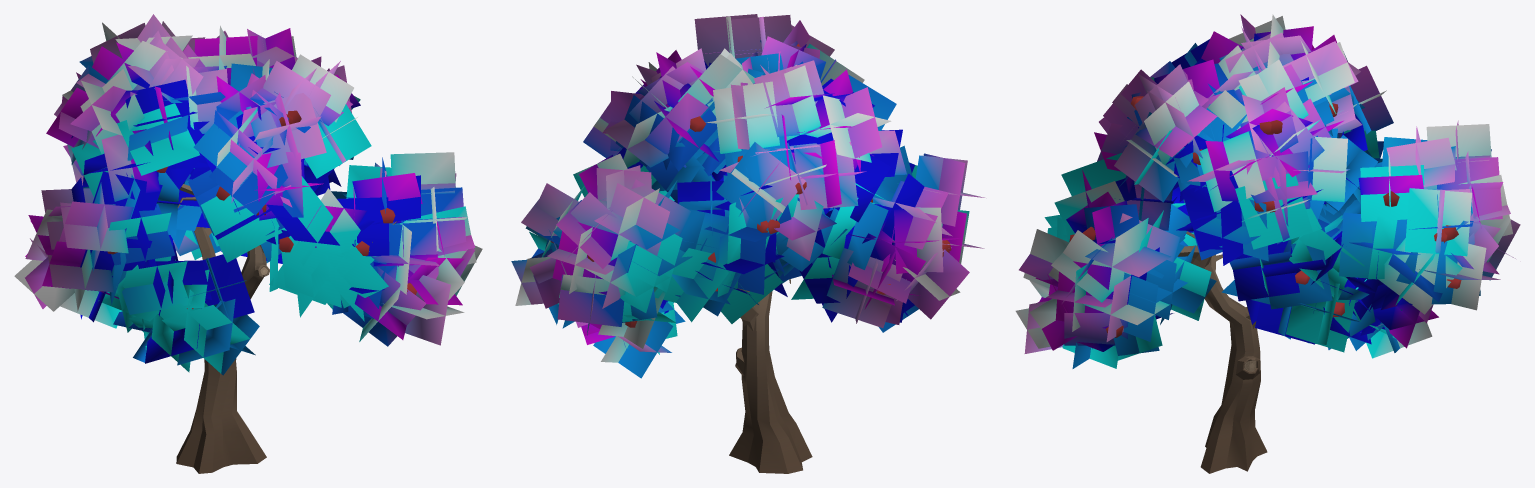
The model's file is PT_Fruit_Tree_01_apples.fbx.
The picture shows the model from 3 angles, left to right: view 1: azimuth 30°, elevation 25°; view 2: azimuth 150°, elevation 25°; view 3: azimuth 270°, elevation 25°; orthographic projection.
Visible parts, largest first — view 1: PT_Fruit_Tree_01_apples_LOD0; view 2: PT_Fruit_Tree_01_apples_LOD0; view 3: PT_Fruit_Tree_01_apples_LOD0.
Part boxes in pixels (left/top/right/bottom): PT_Fruit_Tree_01_apples_LOD0: left=14, top=14, right=482, bottom=473; PT_Fruit_Tree_01_apples_LOD0: left=511, top=14, right=984, bottom=473; PT_Fruit_Tree_01_apples_LOD0: left=1015, top=14, right=1520, bottom=473.
Size of what is drawn, in the model's own units: 650 by 658 by 725.
